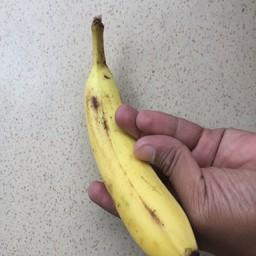Banana Ripe: (50, 7, 214, 256)
